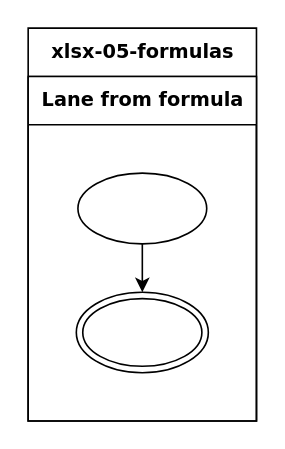
The diagram is 285 pixels wide and 449 high, and some of its shapes have lost their labels. The box of each missing label's shape, as (x1, y1, x2, y2) in pixels:
Done: (75, 291, 208, 373)
Enter: (76, 171, 207, 244)
